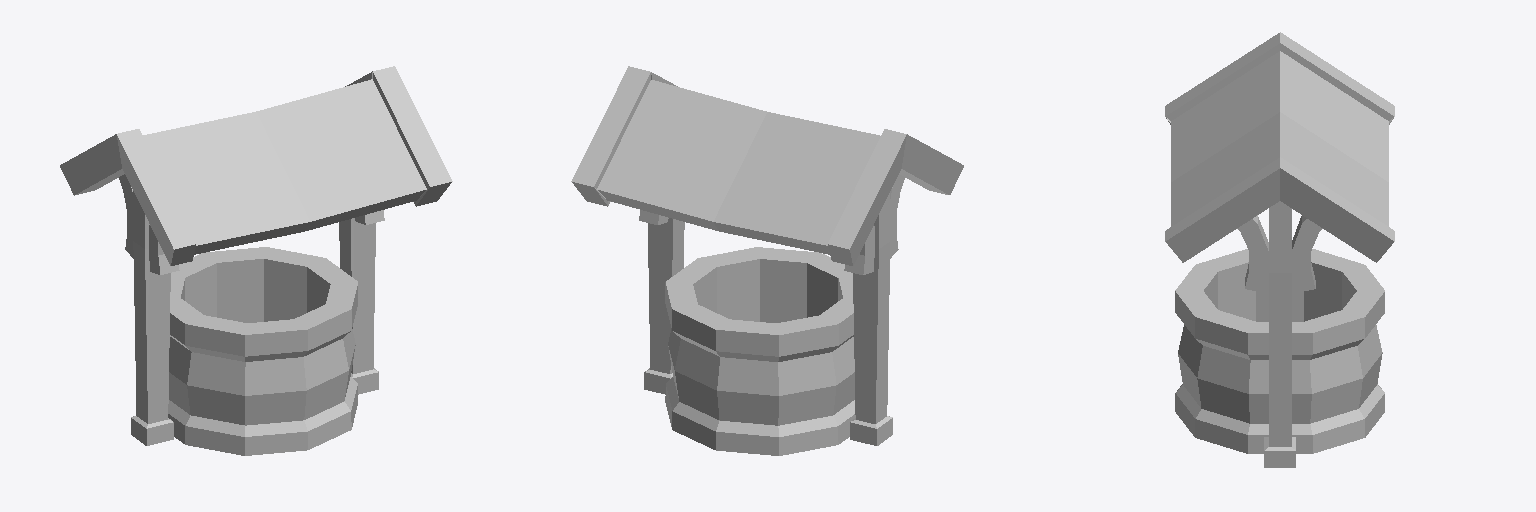
The model's file is Well.obj.
The picture shows the model from 3 angles: view 1: azimuth 30°, elevation 25°; view 2: azimuth 150°, elevation 25°; view 3: azimuth 270°, elevation 25°; orthographic projection.
Parts seen in each view (by area): view 1: Cylinder; view 2: Cylinder; view 3: Cylinder.
Boxes of the visible parts, <box> form: Cylinder: <box>60,66,452,455</box>; Cylinder: <box>571,66,963,455</box>; Cylinder: <box>1165,32,1394,467</box>.
Bounding box in the file's own units: 3.13 × 3.35 × 2.24.